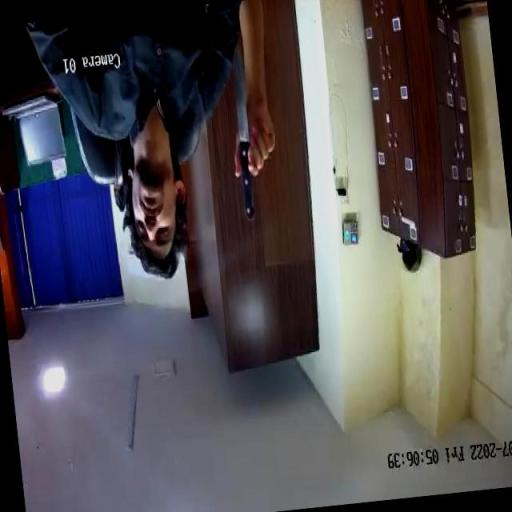knife: (220, 30, 265, 223)
